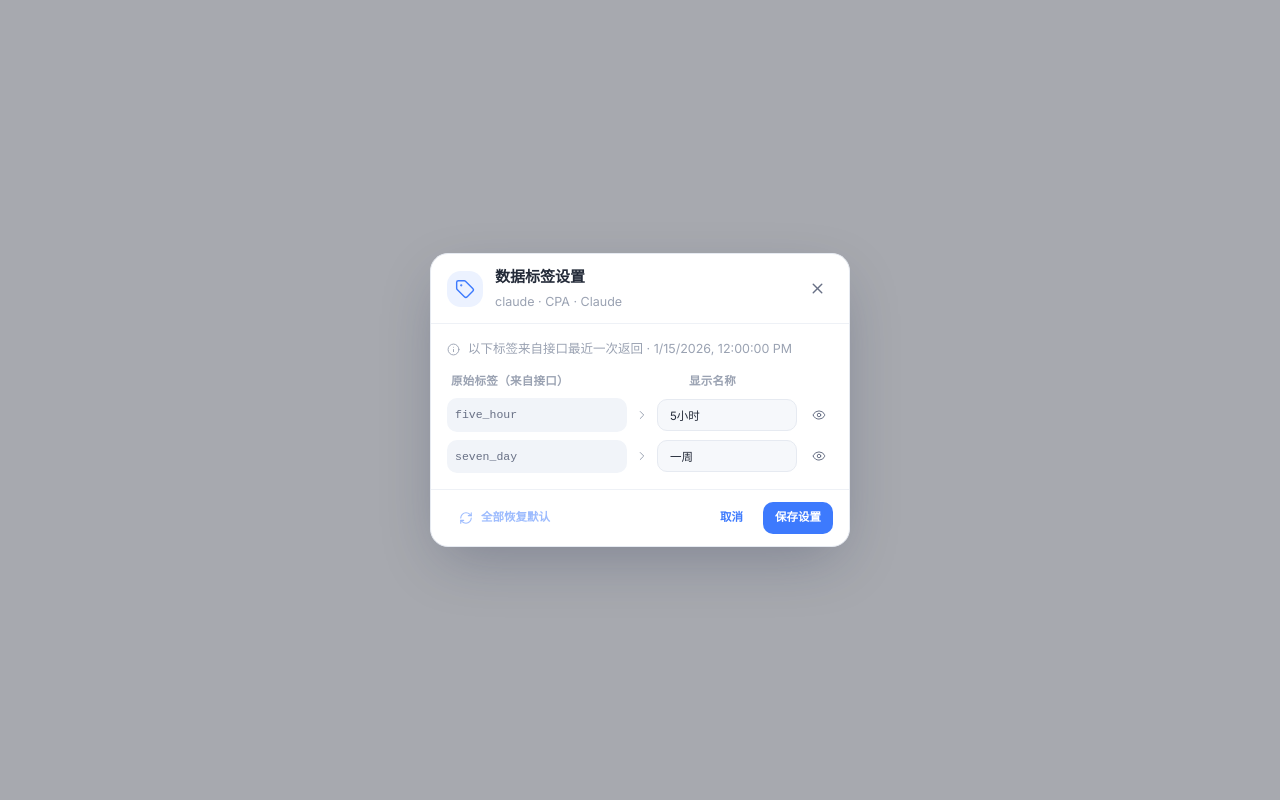
LabelMapDialog › shows visible error when save fails, does not close (t356 AC-001)
Expected: the button "保存设置" is shown, [763,502,833,534]
Type "新名称" into the field next to "five_hour" at point(727, 415), box [657,399,797,431]
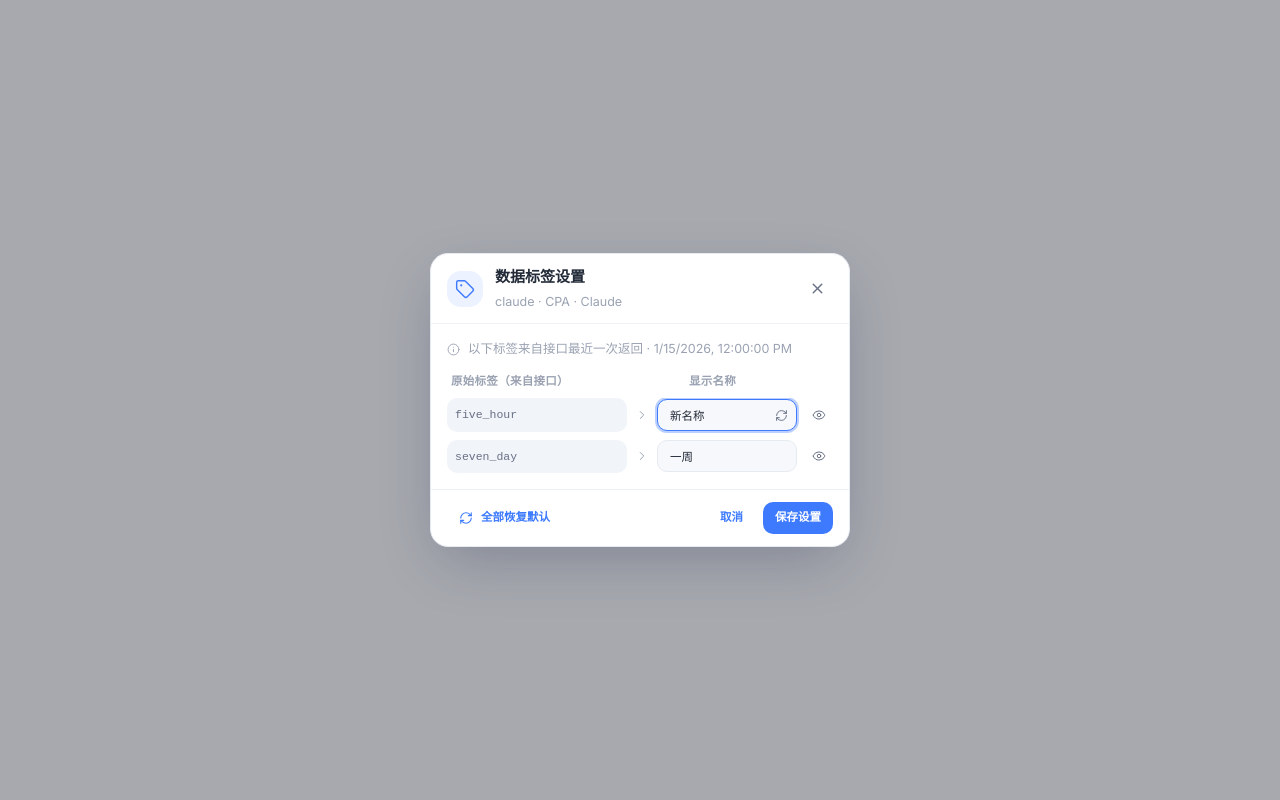
Click the button "保存设置" at point(798, 518), box [763,502,833,534]
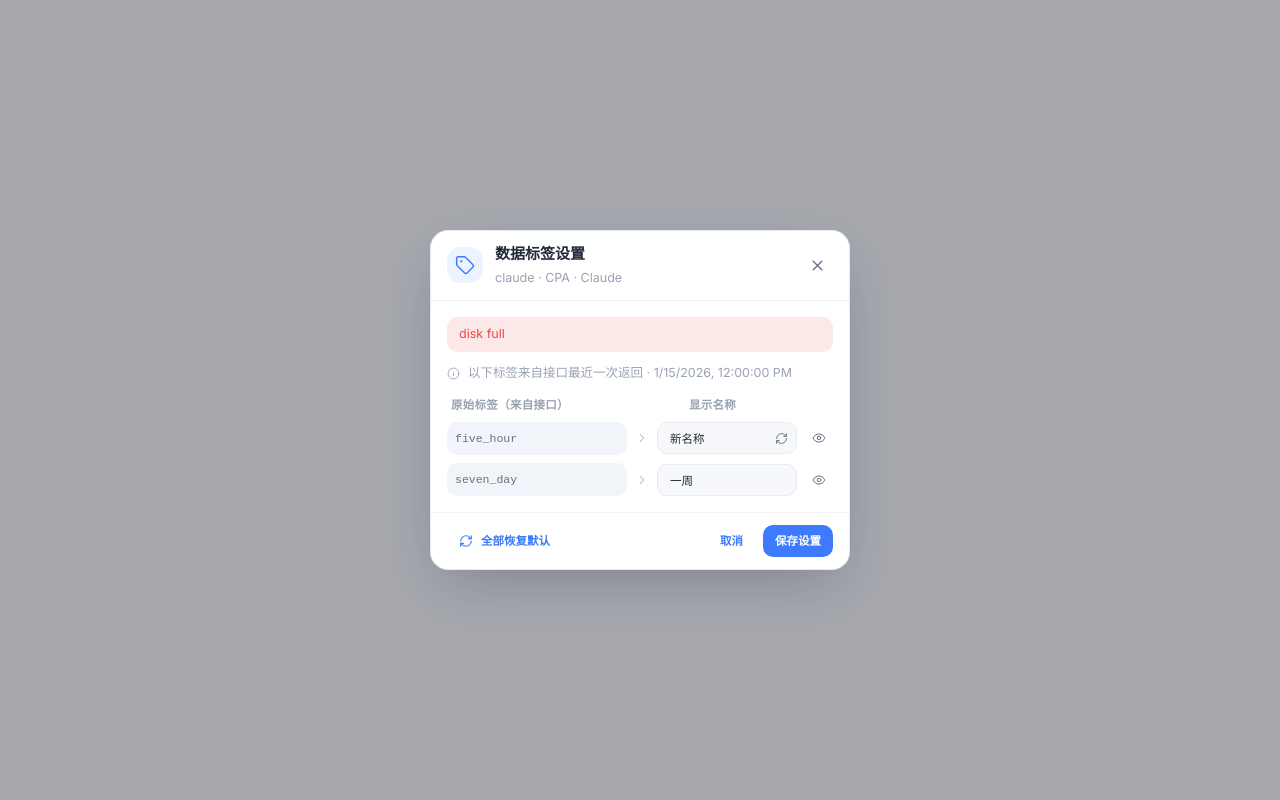
Expected: the text "disk full" is shown, [447,317,833,352]
